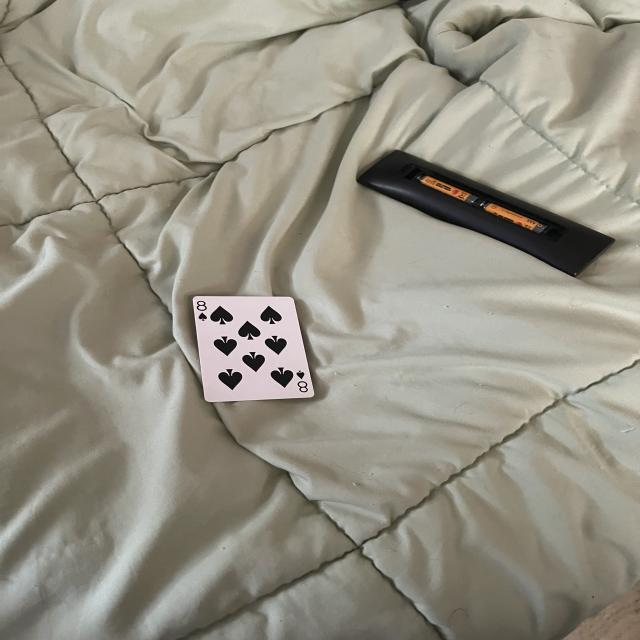8 of clubs: (193, 294, 316, 402)
